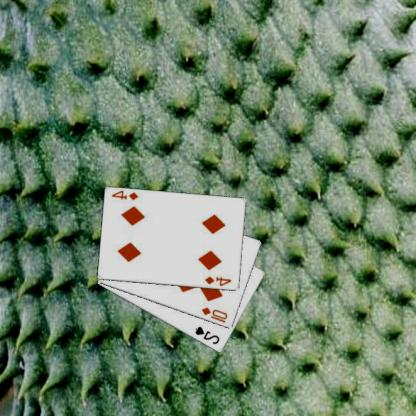10D: (201, 305, 231, 324)
2S: (194, 324, 223, 346)
4D: (111, 188, 142, 202), (204, 274, 234, 287)
